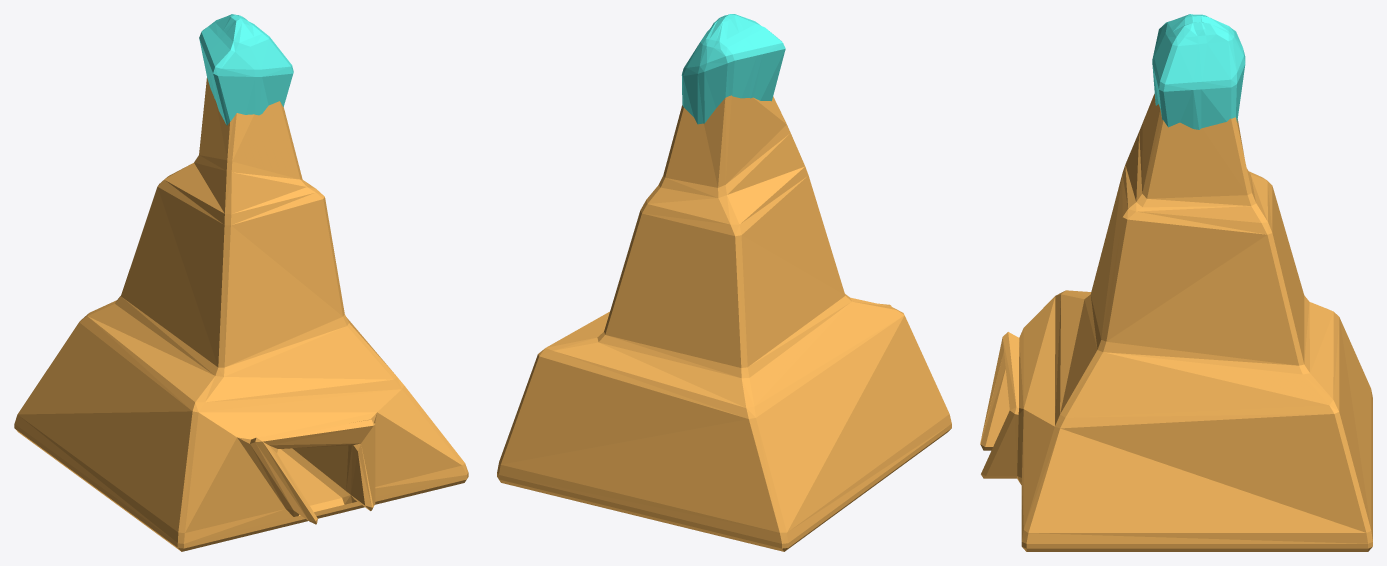
The picture shows the model from 3 angles, left to right: view 1: azimuth 30°, elevation 25°; view 2: azimuth 150°, elevation 25°; view 3: azimuth 270°, elevation 25°; orthographic projection. The views are drawn at different scales.
Visible parts, largest first — view 1: Pyramid, Pyramid_crystal; view 2: Pyramid, Pyramid_crystal; view 3: Pyramid, Pyramid_crystal.
Part boxes in pixels (x1,y1,x2,y2): Pyramid: [14, 78, 468, 551]; Pyramid_crystal: [199, 14, 293, 125]; Pyramid: [497, 95, 951, 551]; Pyramid_crystal: [681, 14, 785, 124]; Pyramid: [980, 94, 1372, 551]; Pyramid_crystal: [1152, 14, 1245, 129].
Size of the model in its own units: 2539 by 3689 by 2840.
